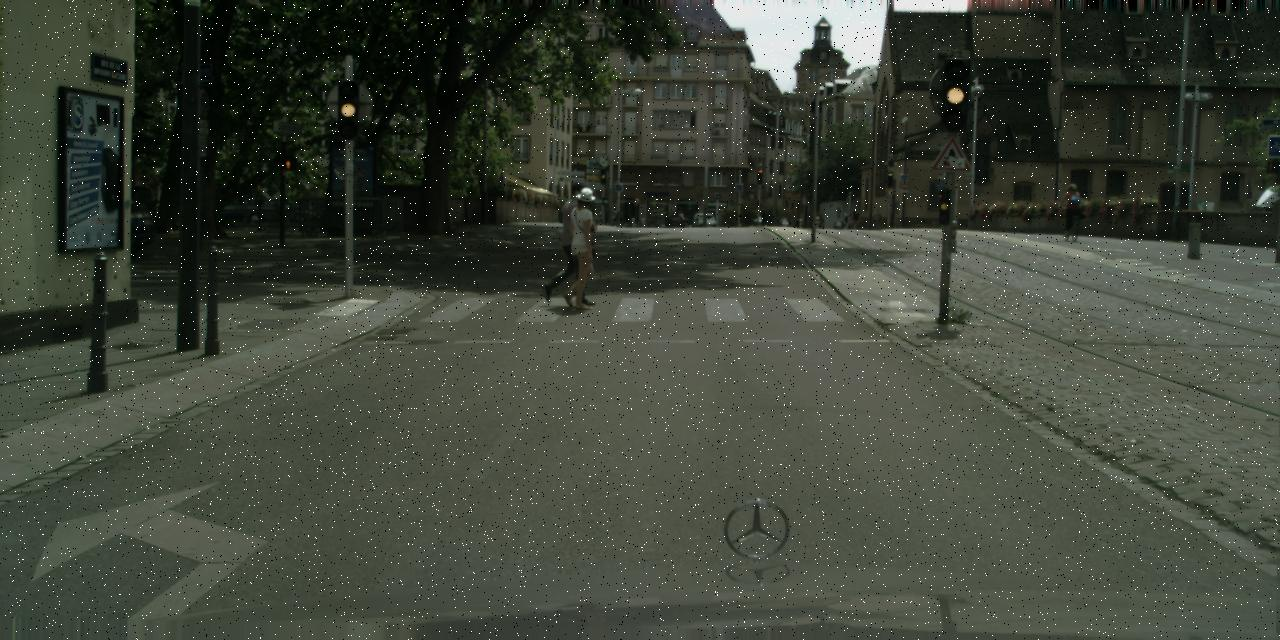ped: (556, 186, 604, 304), (547, 183, 594, 300), (1061, 182, 1081, 232), (842, 208, 852, 230), (872, 208, 881, 231), (850, 208, 859, 230), (676, 211, 681, 225)
